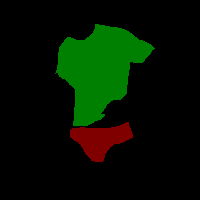abbigliamento: (53, 24, 155, 126)
mutande: (70, 121, 133, 162)
